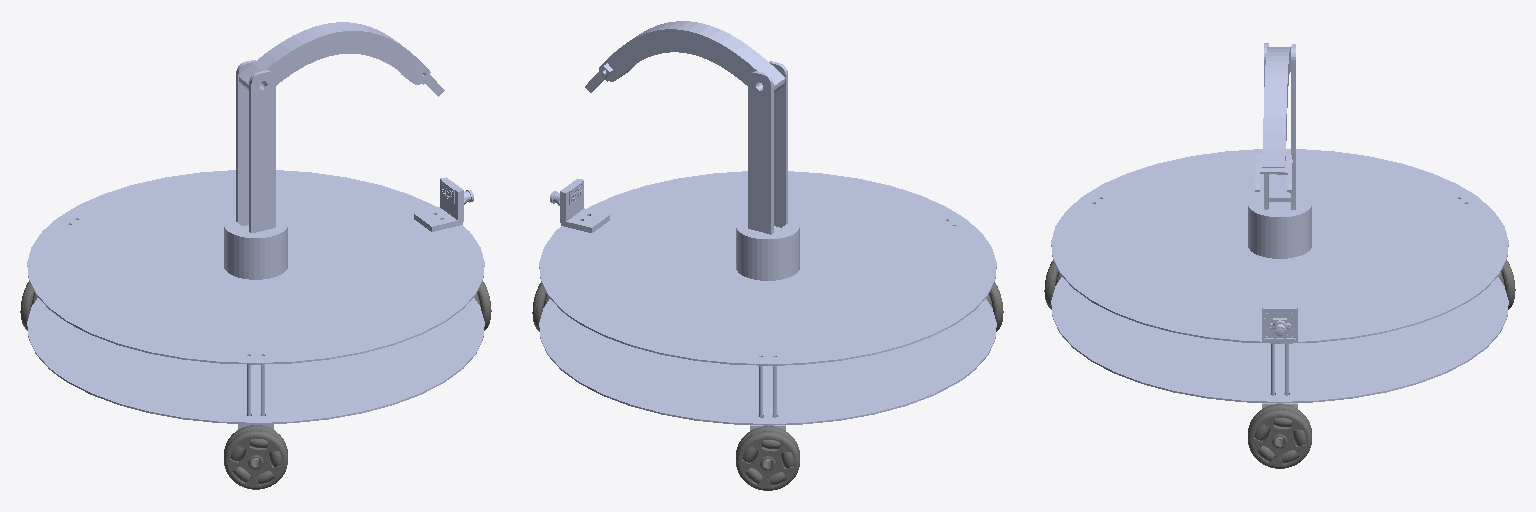
URDF robot description (omni):
<?xml version="1.0" encoding="utf-8"?>
<!-- This URDF was automatically created by SolidWorks to URDF Exporter! Originally created by [author] ([email redacted]) 
     Commit Version: 1.6.0-4-g7f85cfe  Build Version: 1.6.7995.38578
     For more information, please see http://wiki.ros.org/sw_urdf_exporter -->
<robot
  name="omni">
  <link
    name="base_link">
    <inertial>
      <origin
        xyz="0.0259214213193198 0.162879009572641 0.138860851033637"
        rpy="0 0 0" />
      <mass
        value="1.0412265445781" />
      <inertia
        ixx="0.0123484176674689"
        ixy="-4.24972557144798E-14"
        ixz="-1.62076264341875E-06"
        iyy="0.0123484834789265"
        iyz="-9.17988207387215E-15"
        izz="0.0246208820185888" />
    </inertial>
    <visual>
      <origin
        xyz="0 0 0"
        rpy="0 0 0" />
      <geometry>
        <mesh
          filename="package://omni/meshes/base_link.STL" />
      </geometry>
      <material
        name="">
        <color
          rgba="0.792156862745098 0.819607843137255 0.933333333333333 1" />
      </material>
    </visual>
    <collision>
      <origin
        xyz="0 0 0"
        rpy="0 0 0" />
      <geometry>
        <mesh
          filename="package://omni/meshes/base_link.STL" />
      </geometry>
    </collision>
  </link>
  <link
    name="link_banh_truoc">
    <inertial>
      <origin
        xyz="-4.53477005946112E-09 7.15916777249692E-09 0.00698819039316995"
        rpy="0 0 0" />
      <mass
        value="0.0811823538136653" />
      <inertia
        ixx="2.56917243139319E-05"
        ixy="-6.71027667419078E-12"
        ixz="8.16032721301688E-13"
        iyy="2.56917400940774E-05"
        iyz="-3.14034227721853E-13"
        izz="4.95985820980329E-05" />
    </inertial>
    <visual>
      <origin
        xyz="0 0 0"
        rpy="0 0 0" />
      <geometry>
        <mesh
          filename="package://omni/meshes/link_banh_truoc.STL" />
      </geometry>
      <material
        name="">
        <color
          rgba="0.498039215686275 0.498039215686275 0.498039215686275 1" />
      </material>
    </visual>
    <collision>
      <origin
        xyz="0 0 0"
        rpy="0 0 0" />
      <geometry>
        <mesh
          filename="package://omni/meshes/link_banh_truoc.STL" />
      </geometry>
    </collision>
  </link>
  <joint
    name="joint_banh_truoc"
    type="continuous">
    <origin
      xyz="0.29476 0.16288 0.083082"
      rpy="-1.5708 0 1.5708" />
    <parent
      link="base_link" />
    <child
      link="link_banh_truoc" />
    <axis
      xyz="0 0 -1" />
    <dynamics
      damping="10"
      friction="10" />
  </joint>
  <link
    name="link_banh_phai">
    <inertial>
      <origin
        xyz="-4.53477001782776E-09 7.15916775861913E-09 0.00698819039316997"
        rpy="0 0 0" />
      <mass
        value="0.0811823538136654" />
      <inertia
        ixx="2.5691724313932E-05"
        ixy="-6.71027668237178E-12"
        ixz="8.16032726138774E-13"
        iyy="2.56917400940774E-05"
        iyz="-3.14034228029712E-13"
        izz="4.9598582098033E-05" />
    </inertial>
    <visual>
      <origin
        xyz="0 0 0"
        rpy="0 0 0" />
      <geometry>
        <mesh
          filename="package://omni/meshes/link_banh_phai.STL" />
      </geometry>
      <material
        name="">
        <color
          rgba="0.498039215686275 0.498039215686275 0.498039215686275 1" />
      </material>
    </visual>
    <collision>
      <origin
        xyz="0 0 0"
        rpy="0 0 0" />
      <geometry>
        <mesh
          filename="package://omni/meshes/link_banh_phai.STL" />
      </geometry>
    </collision>
  </link>
  <joint
    name="joint_banh_phai"
    type="continuous">
    <origin
      xyz="-0.11519 -0.073806 0.083082"
      rpy="-1.5708 0 -0.5236" />
    <parent
      link="base_link" />
    <child
      link="link_banh_phai" />
    <axis
      xyz="0 0 -1" />
    <dynamics
      damping="10"
      friction="10" />
  </joint>
  <link
    name="link_banh_trai">
    <inertial>
      <origin
        xyz="-4.53477003170555E-09 7.15916773086356E-09 0.00698819039316984"
        rpy="0 0 0" />
      <mass
        value="0.0811823538136656" />
      <inertia
        ixx="2.5691724313932E-05"
        ixy="-6.71027666578851E-12"
        ixz="8.16032722995754E-13"
        iyy="2.56917400940775E-05"
        iyz="-3.1403422456719E-13"
        izz="4.95985820980331E-05" />
    </inertial>
    <visual>
      <origin
        xyz="0 0 0"
        rpy="0 0 0" />
      <geometry>
        <mesh
          filename="package://omni/meshes/link_banh_trai.STL" />
      </geometry>
      <material
        name="">
        <color
          rgba="0.498039215686275 0.498039215686275 0.498039215686275 1" />
      </material>
    </visual>
    <collision>
      <origin
        xyz="0 0 0"
        rpy="0 0 0" />
      <geometry>
        <mesh
          filename="package://omni/meshes/link_banh_trai.STL" />
      </geometry>
    </collision>
  </link>
  <joint
    name="joint_banh_trai"
    type="continuous">
    <origin
      xyz="-0.11519 0.39956 0.083082"
      rpy="-1.5708 0 -2.618" />
    <parent
      link="base_link" />
    <child
      link="link_banh_trai" />
    <axis
      xyz="0 0 -1" />
    <dynamics
      damping="10"
      friction="10" />
  </joint>
  <link
    name="link_lidar">
    <inertial>
      <origin
        xyz="-0.00676653011666364 9.19261110876868E-05 -0.00738187226715967"
        rpy="0 0 0" />
      <mass
        value="1.33076913637071" />
      <inertia
        ixx="0.000614917940454086"
        ixy="-8.01984318965835E-07"
        ixz="-0.000158243025911163"
        iyy="0.0009606973356172"
        iyz="3.09162986587753E-06"
        izz="0.00109815200027134" />
    </inertial>
    <visual>
      <origin
        xyz="0 0 0"
        rpy="0 0 0" />
      <geometry>
        <mesh
          filename="package://omni/meshes/link_lidar.STL" />
      </geometry>
      <material
        name="">
        <color
          rgba="0.792156862745098 0.819607843137255 0.933333333333333 1" />
      </material>
    </visual>
    <collision>
      <origin
        xyz="0 0 0"
        rpy="0 0 0" />
      <geometry>
        <mesh
          filename="package://omni/meshes/link_lidar.STL" />
      </geometry>
    </collision>
  </link>
  <joint
    name="joint_lidar"
    type="fixed">
    <origin
      xyz="0.021464 0.16288 0.15973"
      rpy="0 0 0" />
    <parent
      link="base_link" />
    <child
      link="link_lidar" />
    <axis
      xyz="0 0 0" />
  </joint>
  <link
    name="link_imu">
    <inertial>
      <origin
        xyz="0.000343348408752164 -0.000759450478302254 -0.000384761316868265"
        rpy="0 0 0" />
      <mass
        value="0.000491630657107431" />
      <inertia
        ixx="3.63603146259295E-08"
        ixy="-8.68518895704074E-11"
        ixz="-1.03040853232617E-10"
        iyy="1.05219690062939E-08"
        iyz="1.20559518329745E-10"
        izz="2.60740156632657E-08" />
    </inertial>
    <visual>
      <origin
        xyz="0 0 0"
        rpy="0 0 0" />
      <geometry>
        <mesh
          filename="package://omni/meshes/link_imu.STL" />
      </geometry>
      <material
        name="">
        <color
          rgba="0.792156862745098 0.819607843137255 0.933333333333333 1" />
      </material>
    </visual>
    <collision>
      <origin
        xyz="0 0 0"
        rpy="0 0 0" />
      <geometry>
        <mesh
          filename="package://omni/meshes/link_imu.STL" />
      </geometry>
    </collision>
  </link>
  <joint
    name="joint_imu"
    type="fixed">
    <origin
      xyz="0.26336 0.16336 0.2214"
      rpy="0 0 0" />
    <parent
      link="base_link" />
    <child
      link="link_imu" />
    <axis
      xyz="0 0 0" />
  </joint>
  <link
    name="link_camera">
    <inertial>
      <origin
        xyz="-0.0153272620957812 -7.80161395946832E-05 -0.000379610186590801"
        rpy="0 0 0" />
      <mass
        value="0.00598335612074956" />
      <inertia
        ixx="5.72087060459181E-07"
        ixy="-2.00884934205521E-11"
        ixz="-4.44462901755472E-11"
        iyy="5.15935966193685E-07"
        iyz="-6.22984830331086E-14"
        izz="5.2853041783924E-07" />
    </inertial>
    <visual>
      <origin
        xyz="0 0 0"
        rpy="0 0 0" />
      <geometry>
        <mesh
          filename="package://omni/meshes/link_camera.STL" />
      </geometry>
      <material
        name="">
        <color
          rgba="0.792156862745098 0.819607843137255 0.933333333333333 1" />
      </material>
    </visual>
    <collision>
      <origin
        xyz="0 0 0"
        rpy="0 0 0" />
      <geometry>
        <mesh
          filename="package://omni/meshes/link_camera.STL" />
      </geometry>
    </collision>
  </link>
  <joint
    name="joint_camera"
    type="fixed">
    <origin
      xyz="0.29293 0.16288 0.21083"
      rpy="0 0 0" />
    <parent
      link="base_link" />
    <child
      link="link_camera" />
    <axis
      xyz="0 0 0" />
  </joint>
  <link
    name="link_arm_1">
    <inertial>
      <origin
        xyz="-3.53883589099269E-16 1.9373391779709E-14 0.0266189965554682"
        rpy="0 0 0" />
      <mass
        value="0.244457948195772" />
      <inertia
        ixx="0.00032922625156156"
        ixy="-2.73754653756737E-07"
        ixz="-2.36962213247674E-18"
        iyy="0.000320688548411151"
        iyz="2.04283016550639E-20"
        izz="0.00013424881463892" />
    </inertial>
    <visual>
      <origin
        xyz="0 0 0"
        rpy="0 0 0" />
      <geometry>
        <mesh
          filename="package://omni/meshes/link_arm_1.STL" />
      </geometry>
      <material
        name="">
        <color
          rgba="0.792156862745098 0.819607843137255 0.933333333333333 1" />
      </material>
    </visual>
    <collision>
      <origin
        xyz="0 0 0"
        rpy="0 0 0" />
      <geometry>
        <mesh
          filename="package://omni/meshes/link_arm_1.STL" />
      </geometry>
    </collision>
  </link>
  <joint
    name="joint_arm_1"
    type="revolute">
    <origin
      xyz="0.021464 0.16288 0.21408"
      rpy="0 0 0" />
    <parent
      link="base_link" />
    <child
      link="link_arm_1" />
    <axis
      xyz="0 0 1" />
    <limit
      lower="0"
      upper="3.14"
      effort="10"
      velocity="10" />
    <dynamics
      damping="10"
      friction="10" />
  </joint>
  <link
    name="link_arm_2">
    <inertial>
      <origin
        xyz="0.10398931948016 0.0080766599050065 -3.69996810967166E-11"
        rpy="0 0 0" />
      <mass
        value="0.15660733223008" />
      <inertia
        ixx="6.23424959483214E-05"
        ixy="7.18807583184949E-05"
        ixz="-1.03021331076441E-10"
        iyy="0.000579413982998702"
        iyz="1.83218121875942E-11"
        izz="0.000623245798049505" />
    </inertial>
    <visual>
      <origin
        xyz="0 0 0"
        rpy="0 0 0" />
      <geometry>
        <mesh
          filename="package://omni/meshes/link_arm_2.STL" />
      </geometry>
      <material
        name="">
        <color
          rgba="0.792156862745098 0.819607843137255 0.933333333333333 1" />
      </material>
    </visual>
    <collision>
      <origin
        xyz="0 0 0"
        rpy="0 0 0" />
      <geometry>
        <mesh
          filename="package://omni/meshes/link_arm_2.STL" />
      </geometry>
    </collision>
  </link>
  <joint
    name="joint_arm_2"
    type="revolute">
    <origin
      xyz="0 0 0.2"
      rpy="1.5708 0 -0.03202" />
    <parent
      link="link_arm_1" />
    <child
      link="link_arm_2" />
    <axis
      xyz="0 0 -1" />
    <limit
      lower="-1.57"
      upper="0"
      effort="10"
      velocity="10" />
    <dynamics
      damping="10"
      friction="10" />
  </joint>


  <gazebo reference="link_lidar">
   <sensor type="ray" name="lidar_sensor">
     <pose>0 0 0 0 0 0</pose>
     <visualize>true</visualize>
     <update_rate>30</update_rate>
     <ray>
    <scan>
      <horizontal>
        <samples>720</samples>
        <resolution>1</resolution>
        <min_angle>-3.1416</min_angle>
        <max_angle>3.1416</max_angle>
      </horizontal>
    </scan>
    <range>
      <min>0.1</min>
      <max>30.0</max>
      <resolution>0.01</resolution>
    </range>
    <noise>
      <type>gaussian</type>
      <mean>0.0</mean>
      <stddev>0.01</stddev>
    </noise>
     </ray>
     <plugin name="gazebo_ros_laser" filename="libgazebo_ros_laser.so">
    <topicName>/scan</topicName>
    <frameName>link_lidar</frameName>
     </plugin>
   </sensor>
    </gazebo>

  <gazebo reference="link_imu">
  <sensor name="imu_sensor" type="imu">
    <always_on>true</always_on>
    <update_rate>100</update_rate>
    <visualize>true</visualize> <!-- Bật hiển thị mũi tên -->
    <scale>0.1 0.1 0.1</scale>
    <plugin filename="libgazebo_ros_imu_sensor.so" name="imu_plugin">
      <topicName>/imu</topicName>
      <bodyName>link_imu</bodyName>
      <frameName>link_imu</frameName>
      <gaussianNoise>0.01</gaussianNoise>
      <xyzOffset>0 0 0</xyzOffset>
      <rpyOffset>0 0 0</rpyOffset> <!-- Không offset góc dữ liệu -->
      <initialOrientationAsReference>false</initialOrientationAsReference>
    </plugin>
    <pose>0 0 0 0 1.5708 0</pose> <!-- Xoay 90 độ quanh trục Y để mũi tên hướng theo X -->
  </sensor>
</gazebo>


<!-- camera -->
<gazebo reference="link_camera">
  <material>Gazebo/Red</material>

  <sensor name="camera" type="camera">
      <pose> 0 0 0 0 0 0 </pose>
      <visualize>true</visualize>
      <update_rate>10</update_rate>
      <camera>
          <horizontal_fov>1.089</horizontal_fov>
          <image>
              <format>R8G8B8</format>
              <width>640</width>
              <height>480</height>
          </image>
          <clip>
              <near>0.05</near>
              <far>8.0</far>
          </clip>
      </camera>
      <plugin name="camera_controller" filename="libgazebo_ros_camera.so">
          <frame_name>link_camera</frame_name>
      </plugin>
  </sensor>
</gazebo>


<!-- <gazebo>
    <plugin name="object_controller" filename="libgazebo_ros_planar_move.so">
      <commandTopic>cmd_vel</commandTopic>
      <odometryTopic>odom</odometryTopic>
      <odometryFrame>odom</odometryFrame>
      <odometryRate>30.0</odometryRate>s
      <robotBaseFrame>base_link</robotBaseFrame>
    </plugin>
  </gazebo> 

  <gazebo reference="base_link">
    <material>Gazebo/Blue</material>
    <turnGravityOff>false</turnGravityOff>
  </gazebo>

  <gazebo reference="joint_banh_truoc">
    <material>Gazebo/Black</material>
	<turnGravityOff>false</turnGravityOff>
  </gazebo>
  <gazebo reference="joint_banh_trai">
    <material>Gazebo/Black</material>
	<turnGravityOff>false</turnGravityOff>
  </gazebo>
  <gazebo reference="joint_banh_phai">
    <material>Gazebo/Black</material>
	<turnGravityOff>false</turnGravityOff>
  </gazebo> -->


<!-- Transmission cho bánh xe -->
  <transmission name="left_wheel_trans">
    <type>transmission_interface/SimpleTransmission</type>
    <joint name="joint_banh_trai">
      <hardwareInterface>hardware_interface/VelocityJointInterface</hardwareInterface>
    </joint>
    <actuator name="left_wheel_motor">
      <mechanicalReduction>1</mechanicalReduction>
    </actuator>
  </transmission>

  <transmission name="right_wheel_trans">
    <type>transmission_interface/SimpleTransmission</type>
    <joint name="joint_banh_phai">
      <hardwareInterface>hardware_interface/VelocityJointInterface</hardwareInterface>
    </joint>
    <actuator name="right_wheel_motor">
      <mechanicalReduction>1</mechanicalReduction>
    </actuator>
  </transmission>

  <transmission name="front_wheel_trans">
    <type>transmission_interface/SimpleTransmission</type>
    <joint name="joint_banh_truoc">
      <hardwareInterface>hardware_interface/VelocityJointInterface</hardwareInterface>
    </joint>
    <actuator name="front_wheel_motor">
      <mechanicalReduction>1</mechanicalReduction>
    </actuator>
  </transmission>

    <gazebo>
      <plugin name ="gazebo_ros_control" filename = "libgazebo_ros_control.so">
        <robotNamespace>/</robotNamespace>
      </plugin>
    </gazebo>

</robot>

--- What the picture shows (computed from the rendered views, not written in the file) ---
The picture shows the robot from 3 angles, left to right: view 1: azimuth 30°, elevation 25°; view 2: azimuth 150°, elevation 25°; view 3: azimuth 270°, elevation 25°; orthographic projection.
Model omni with 9 links and 8 joints (2 revolute, 3 continuous, 3 fixed), rooted at base_link, posed all joints at 0.
Visible links, largest first — view 1: base_link, link_arm_1, link_arm_2, link_banh_phai; view 2: base_link, link_arm_1, link_arm_2, link_banh_trai; view 3: base_link, link_arm_1, link_arm_2, link_banh_truoc, link_camera.
Boxes of the visible links, bbox=[...] form: base_link: bbox=[27, 170, 484, 459]; link_arm_1: bbox=[224, 60, 287, 279]; link_arm_2: bbox=[239, 22, 444, 96]; link_banh_phai: bbox=[224, 425, 287, 489]; base_link: bbox=[539, 171, 996, 461]; link_arm_1: bbox=[736, 61, 799, 280]; link_arm_2: bbox=[585, 21, 785, 92]; link_banh_trai: bbox=[736, 426, 799, 490]; base_link: bbox=[1051, 149, 1508, 439]; link_arm_1: bbox=[1248, 43, 1311, 258]; link_arm_2: bbox=[1255, 47, 1292, 192]; link_banh_truoc: bbox=[1248, 404, 1311, 468]; link_camera: bbox=[1263, 308, 1296, 339].
Bounding box of the posed robot: 0.5298 × 0.5142 × 0.4073 m (x, y, z).
9 mesh visuals loaded from 9 distinct referenced files (9 binary STL).
